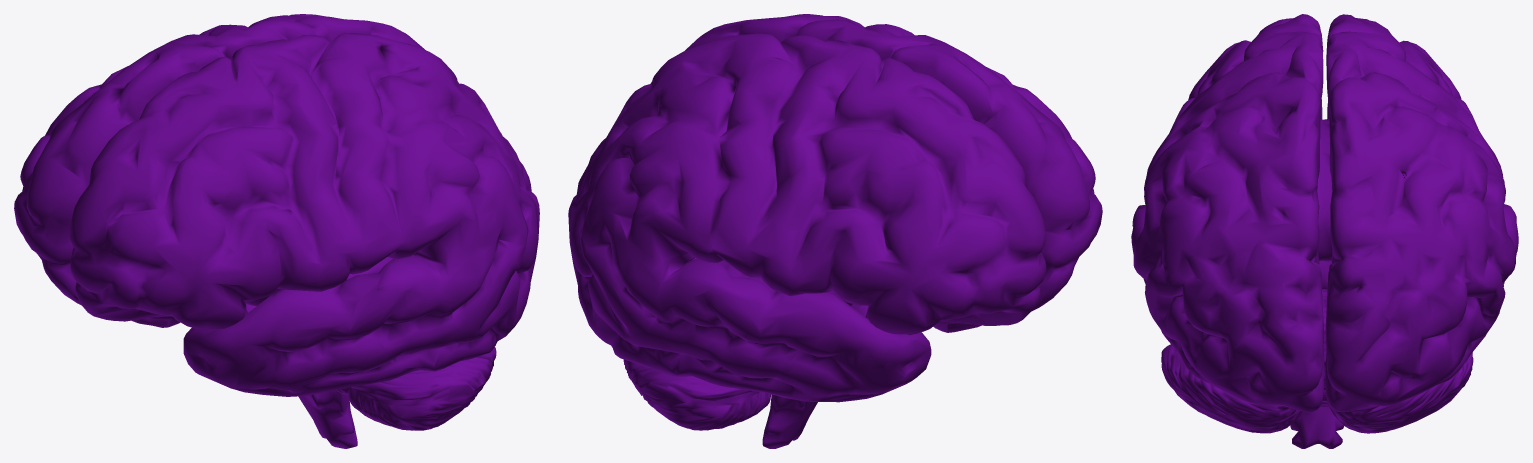
Rendered from Brain.glb.
3 views of the same model, side by side, from view 1: azimuth 30°, elevation 25°; view 2: azimuth 150°, elevation 25°; view 3: azimuth 270°, elevation 25° (orthographic). The views are drawn at different scales.
Parts seen in each view (by area): view 1: default; view 2: default; view 3: default.
Part boxes in pixels (box(x1,y1,x2,y2)): default: box(14, 14, 539, 448); default: box(568, 14, 1102, 448); default: box(1131, 14, 1518, 448).
Size of the model in its own units: 6.4 by 5.61 by 5.29.
